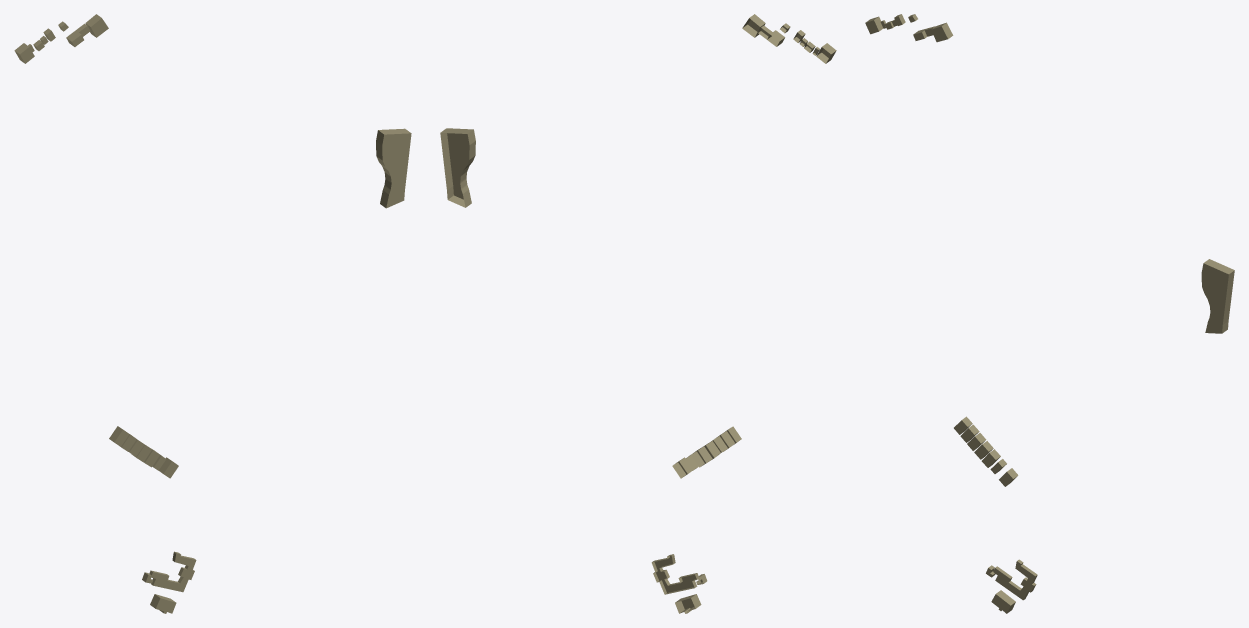
The model's file is buildings_possibly_damaged.obj.
3 views of the same model, side by side, from view 1: azimuth 30°, elevation 25°; view 2: azimuth 150°, elevation 25°; view 3: azimuth 330°, elevation 25° (orthographic). The views are drawn at different scales.
Parts seen in each view (by area): view 1: buildings_possibly_damaged; view 2: buildings_possibly_damaged; view 3: buildings_possibly_damaged.
Part boxes in pixels (bbox=[...]): buildings_possibly_damaged: bbox=[14, 14, 411, 613]; buildings_possibly_damaged: bbox=[440, 14, 836, 613]; buildings_possibly_damaged: bbox=[865, 14, 1234, 613].
Size of the model in its own units: 666 by 999 by 18.6.
